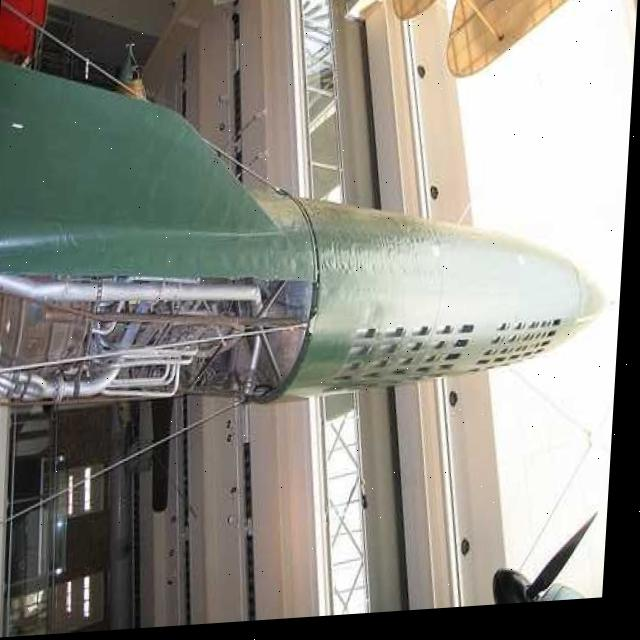missile: (0, 18, 629, 456)
